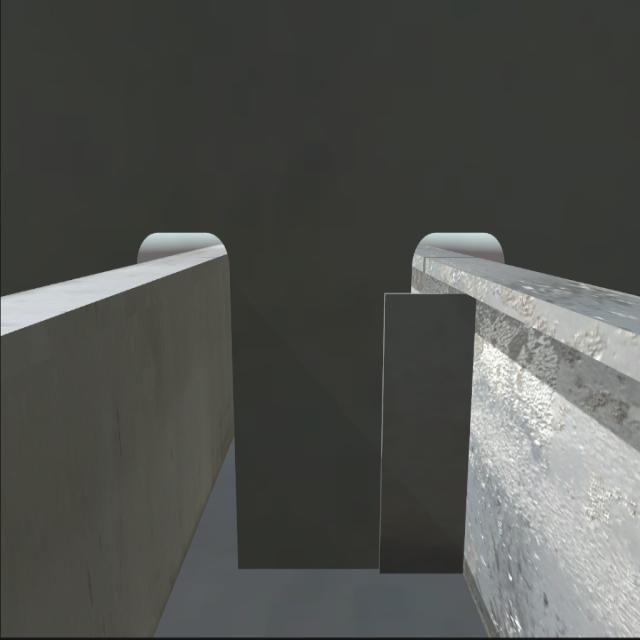fillet_yong_jeop_jang: (232, 559, 470, 581)
longi_yong_jeop_jang: (463, 292, 471, 578)
plate_CP01: (382, 289, 468, 577)
